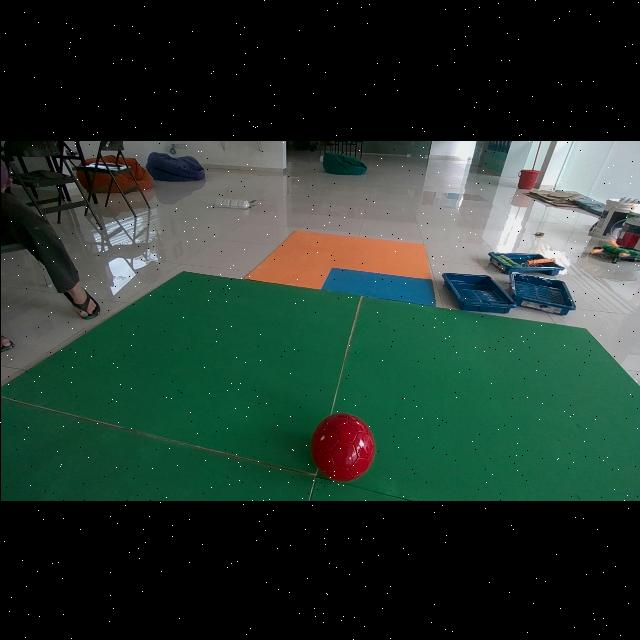R: (310, 413, 373, 481)
